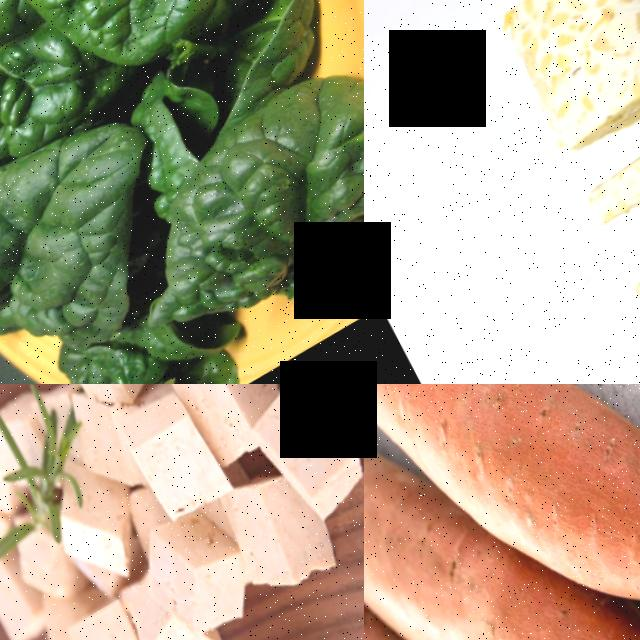spinach: (122, 61, 364, 348), (0, 120, 168, 384), (0, 0, 306, 100)
sweet potato: (364, 384, 640, 597), (364, 384, 494, 640), (548, 434, 640, 640), (364, 468, 468, 640)
tempeh: (480, 0, 640, 176), (564, 48, 640, 249)
tofu: (243, 384, 364, 545), (213, 470, 337, 621), (124, 506, 259, 640), (112, 389, 232, 537), (50, 496, 151, 603), (158, 384, 285, 461), (43, 384, 171, 426), (125, 593, 227, 640), (55, 596, 146, 640)
